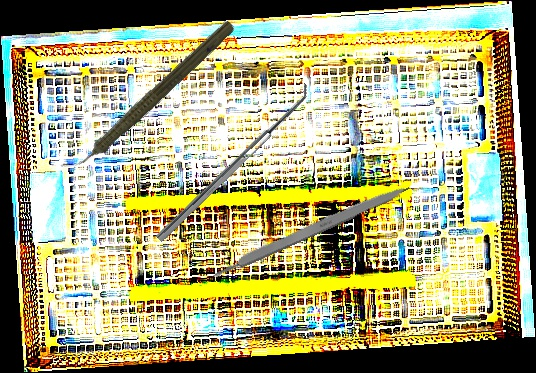Handpiece: (58, 13, 239, 184)
Scalpel Handle: (206, 178, 414, 282)
Spatula Surgical: (149, 81, 316, 243)
